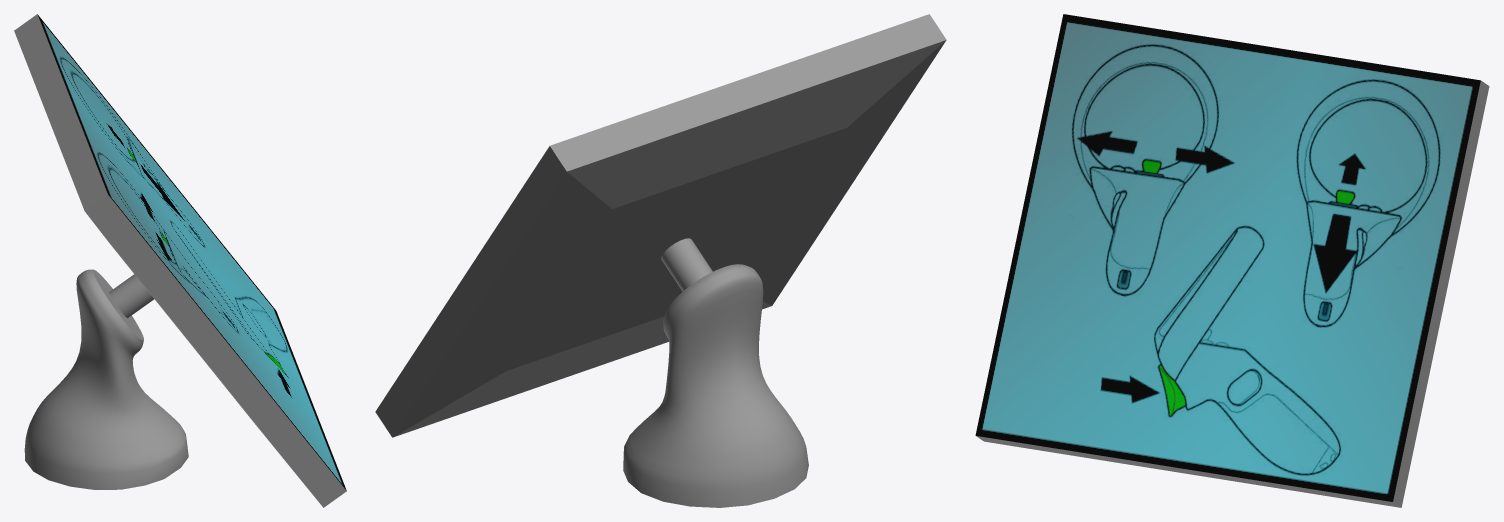
The model's file is Liccon Cabin Icon 004.fbx.
3 views of the same model, side by side, from view 1: azimuth 30°, elevation 25°; view 2: azimuth 150°, elevation 25°; view 3: azimuth 270°, elevation 25° (orthographic). The views are drawn at different scales.
Parts seen in each view (by area): view 1: Object001; view 2: Object001; view 3: Object001.
Boxes of the visible parts, x1,y1,x2,y2 form: Object001: (14,14,346,507); Object001: (375,14,946,507); Object001: (975,14,1489,507).
Bounding box in the file's own units: 26.9 × 33.43 × 26.12.
2 materials, 1 textured.
